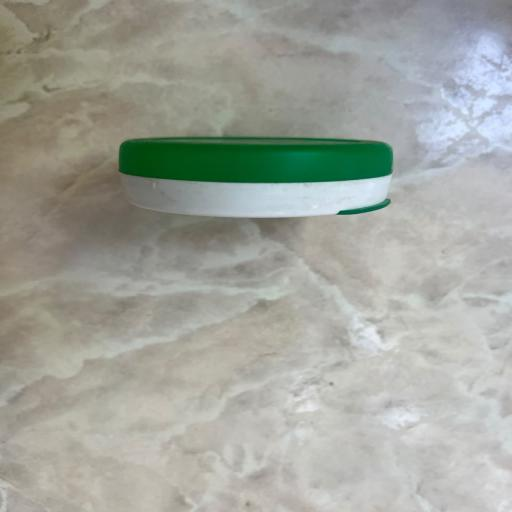HDPE: (112, 116, 431, 258)
